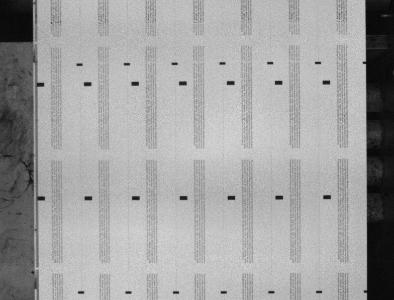backgroundclutter: (31, 271, 35, 274)
incorrect qblock: (363, 61, 367, 64), (364, 290, 368, 293)
qblock: (179, 195, 188, 200), (227, 195, 236, 200), (132, 196, 140, 201), (275, 80, 283, 85), (84, 196, 92, 201), (276, 195, 284, 200), (323, 80, 331, 85), (37, 196, 45, 201), (131, 81, 139, 86), (323, 195, 332, 199), (37, 82, 44, 87), (179, 81, 187, 85), (84, 82, 92, 86), (227, 81, 235, 85)
smallqblock: (124, 62, 130, 66), (76, 63, 83, 66), (315, 61, 322, 64), (171, 62, 178, 65), (267, 61, 274, 64), (219, 62, 226, 65), (316, 290, 323, 293), (125, 291, 132, 294), (220, 291, 227, 294), (173, 291, 180, 294), (221, 290, 228, 293), (78, 291, 84, 294), (269, 290, 275, 293)
